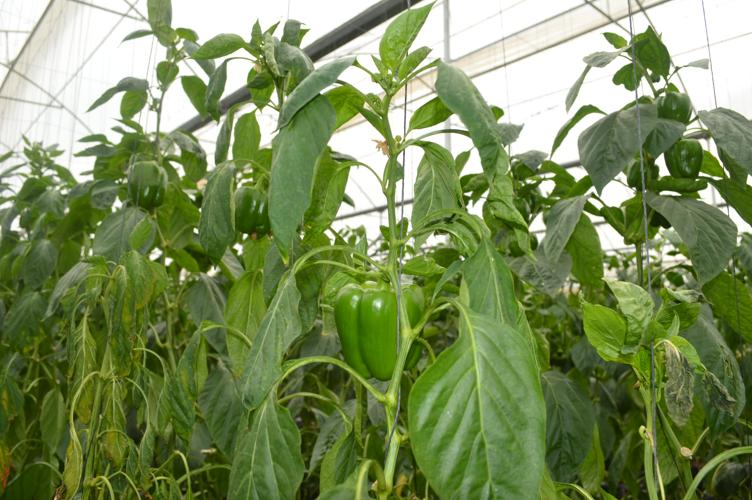BellPepper: (334, 282, 426, 381), (235, 188, 274, 237), (130, 162, 165, 208), (666, 138, 704, 180), (662, 89, 690, 126)
